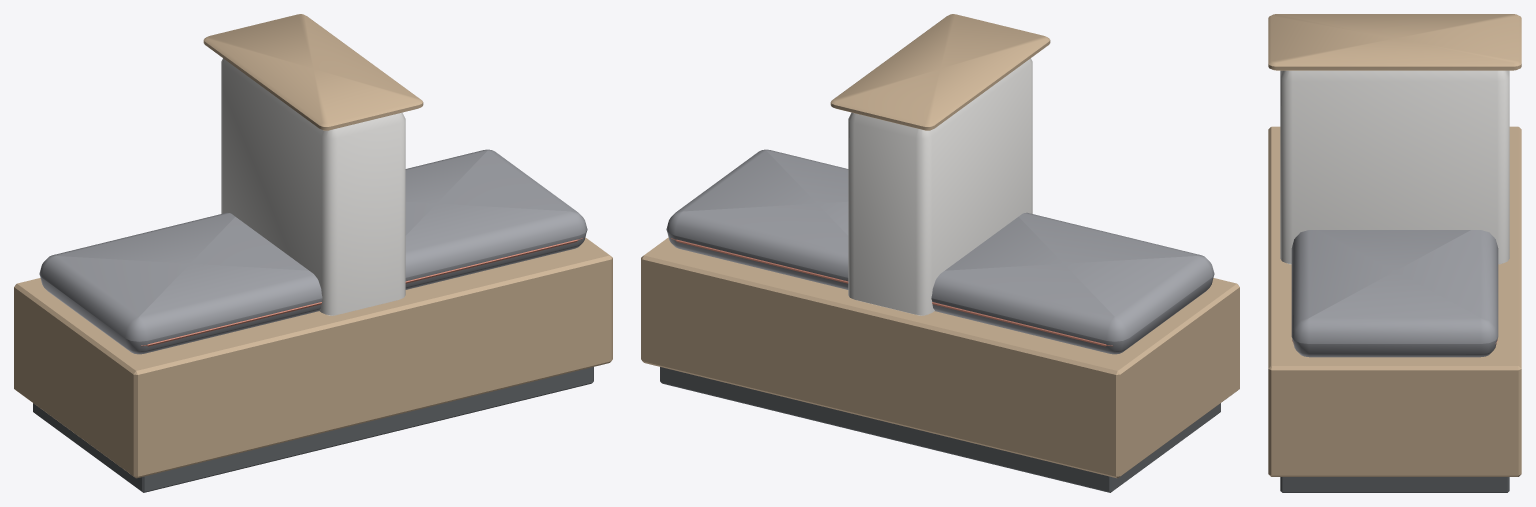
File: SM_Retail_25381_ChargingBench.fbx
3 renders of one model, left to right at view 1: azimuth 30°, elevation 25°; view 2: azimuth 150°, elevation 25°; view 3: azimuth 270°, elevation 25°, orthographic. The views are drawn at different scales.
Parts seen in each view (by area): view 1: concourse-charging-bench_1, concourse-charging-bench_2, concourse-charging-bench_4, concourse-charging-bench_0, concourse-charging-bench_3; view 2: concourse-charging-bench_1, concourse-charging-bench_2, concourse-charging-bench_4, concourse-charging-bench_0, concourse-charging-bench_3; view 3: concourse-charging-bench_1, concourse-charging-bench_4, concourse-charging-bench_2, concourse-charging-bench_0.
Boxes of the visible parts, left/top/right/bottom form: concourse-charging-bench_1: left=14, top=14, right=612, bottom=478; concourse-charging-bench_2: left=39, top=149, right=587, bottom=354; concourse-charging-bench_4: left=221, top=58, right=405, bottom=315; concourse-charging-bench_0: left=33, top=367, right=593, bottom=492; concourse-charging-bench_3: left=141, top=238, right=582, bottom=346; concourse-charging-bench_1: left=641, top=14, right=1239, bottom=478; concourse-charging-bench_2: left=666, top=149, right=1214, bottom=354; concourse-charging-bench_4: left=848, top=58, right=1032, bottom=315; concourse-charging-bench_0: left=660, top=367, right=1220, bottom=492; concourse-charging-bench_3: left=671, top=238, right=1112, bottom=346; concourse-charging-bench_1: left=1268, top=14, right=1521, bottom=476; concourse-charging-bench_4: left=1280, top=70, right=1509, bottom=264; concourse-charging-bench_2: left=1291, top=230, right=1498, bottom=357; concourse-charging-bench_0: left=1280, top=477, right=1509, bottom=492.
Bounding box in the file's own units: 140 × 61.99 × 92.
